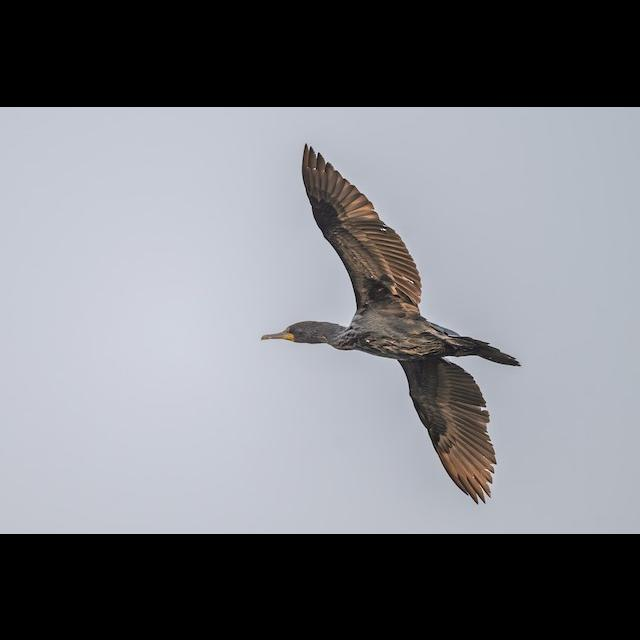cormorant: (254, 140, 524, 510)
